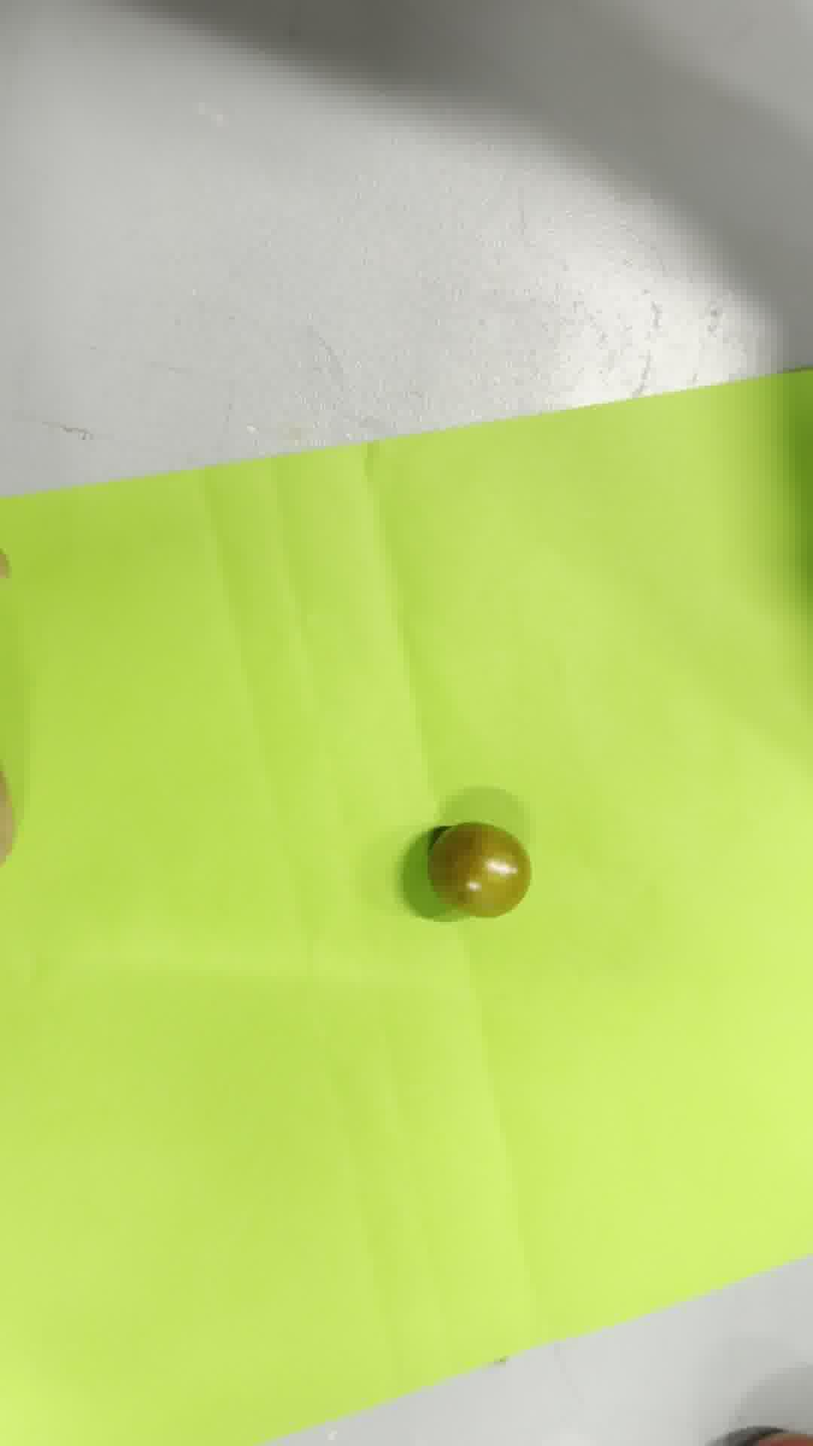yellow_cherry_tomato: (428, 821, 530, 918)
